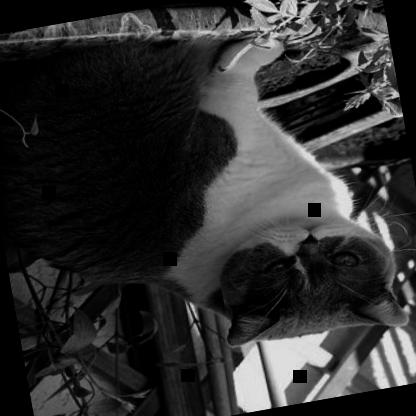cat: (0, 0, 412, 394)
